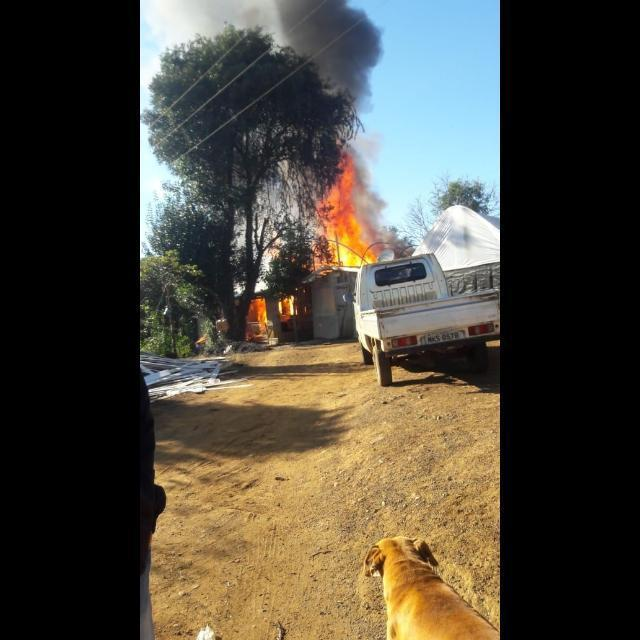Fire: (308, 150, 379, 276), (245, 299, 268, 343), (278, 294, 296, 316)
Smoke: (143, 1, 384, 115), (343, 136, 417, 260)
